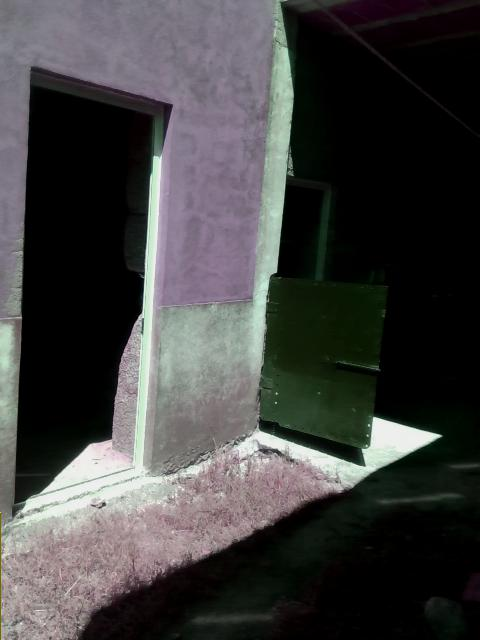open_door: (11, 61, 174, 520)
